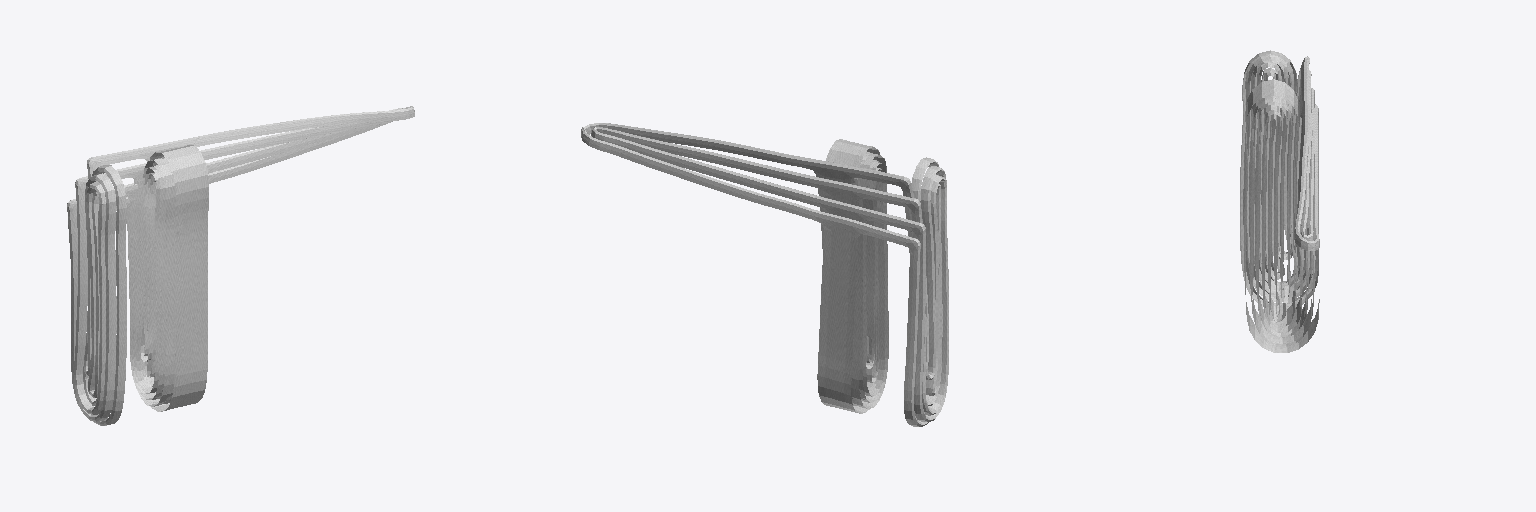
3 renders of one model, left to right at view 1: azimuth 30°, elevation 25°; view 2: azimuth 150°, elevation 25°; view 3: azimuth 270°, elevation 25°, orthographic.
Parts seen in each view (by area): view 1: WhiteTowel002; view 2: WhiteTowel002; view 3: WhiteTowel002.
Boxes of the visible parts, x1,y1,x2,y2 form: WhiteTowel002: [67, 106, 414, 425]; WhiteTowel002: [581, 123, 948, 426]; WhiteTowel002: [1240, 50, 1319, 352].
Size of the model in its own units: 0.3572 by 0.2564 by 0.0718.
1 materials, 1 textured.